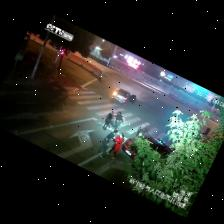person: (97, 130, 117, 158), (107, 134, 123, 159), (113, 113, 125, 130), (102, 112, 113, 130)
